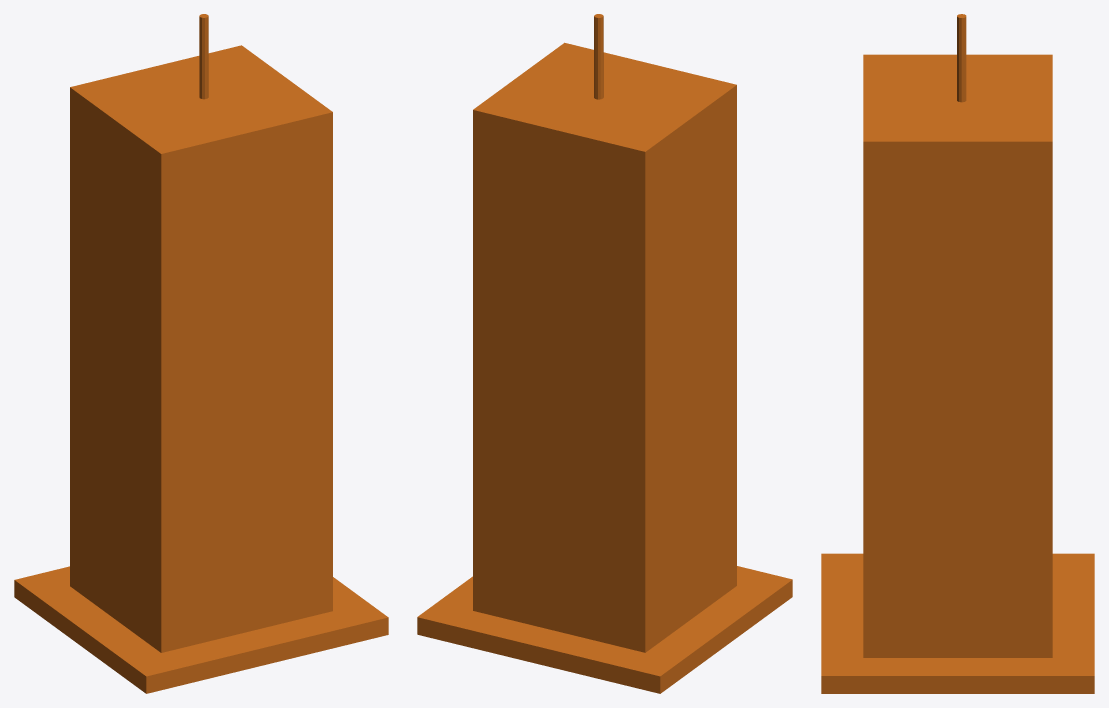
Rendered from Flat_Sellit_af.fbx.
3 renders of one model, left to right at view 1: azimuth 30°, elevation 25°; view 2: azimuth 150°, elevation 25°; view 3: azimuth 270°, elevation 25°, orthographic. The views are drawn at different scales.
Visible parts, largest first — view 1: pCube1, pCylinder1; view 2: pCube1, pCylinder1; view 3: pCube1, pCylinder1.
Boxes of the visible parts, x1,y1,x2,y2 form: pCube1: [14, 45, 388, 693]; pCylinder1: [199, 14, 208, 99]; pCube1: [417, 42, 792, 693]; pCylinder1: [594, 14, 603, 99]; pCube1: [821, 54, 1094, 693]; pCylinder1: [957, 14, 966, 102].
Size of the model in its own units: 8.21 by 19.37 by 7.75.
